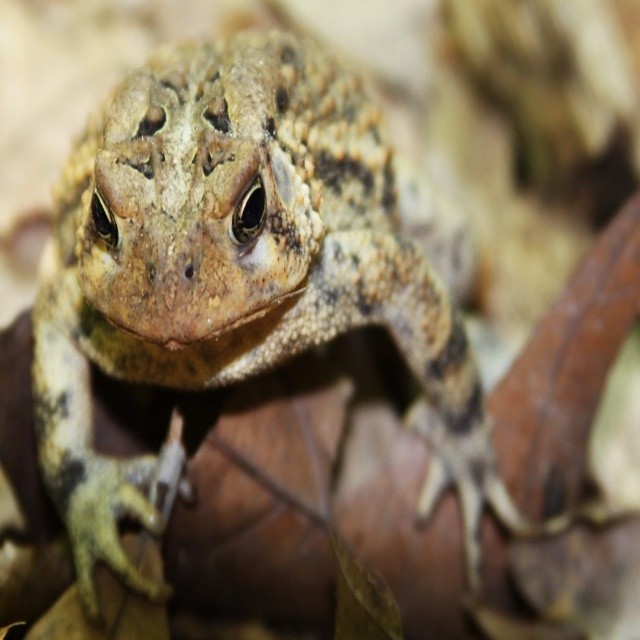Frog: (28, 28, 532, 631)
